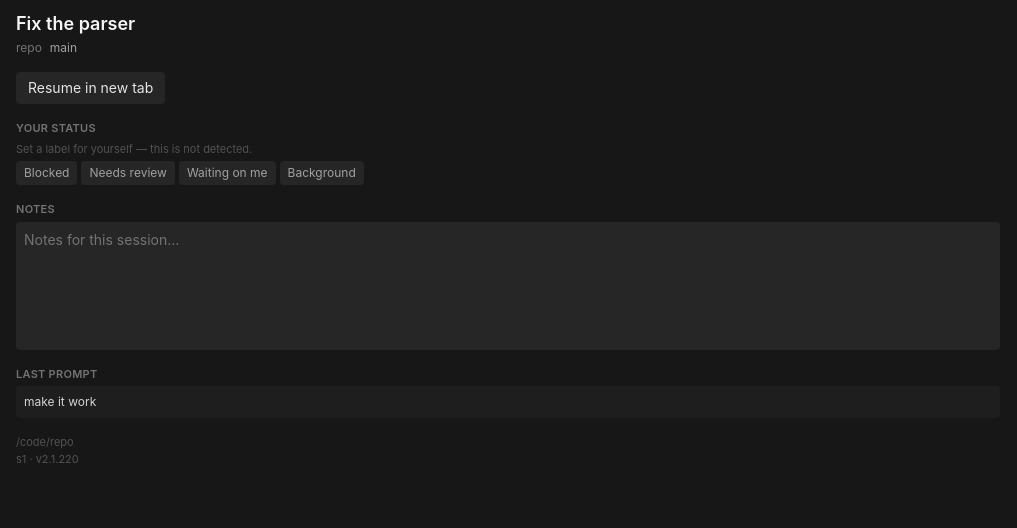
it: SessionDetail › surfaces an error when resume fails
What coordinates should you click on to do the following:
click the button "Resume in new tab"
I would click on:
 (91, 88)
Its box is [16, 72, 165, 104].
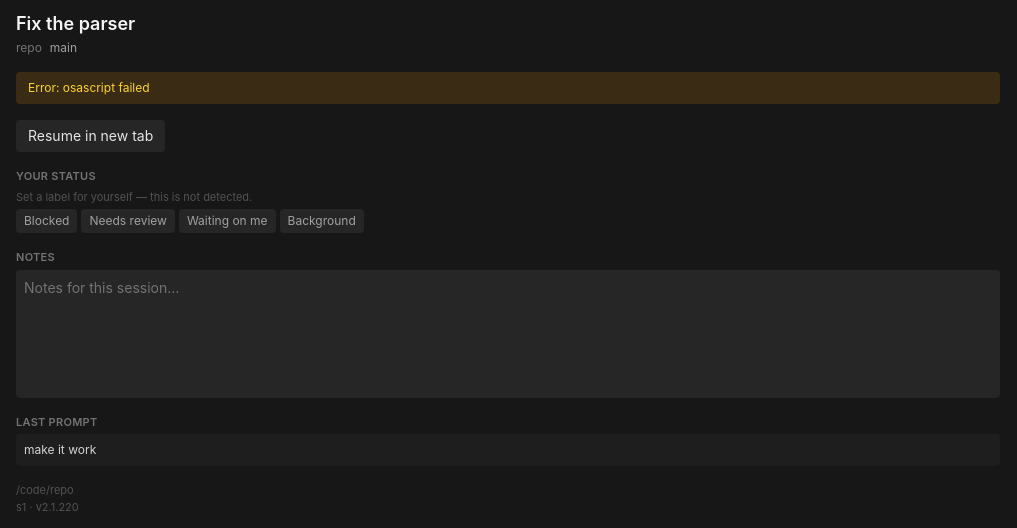
Expected: the message "Error: osascript failed" is shown, [16, 72, 1000, 104]
